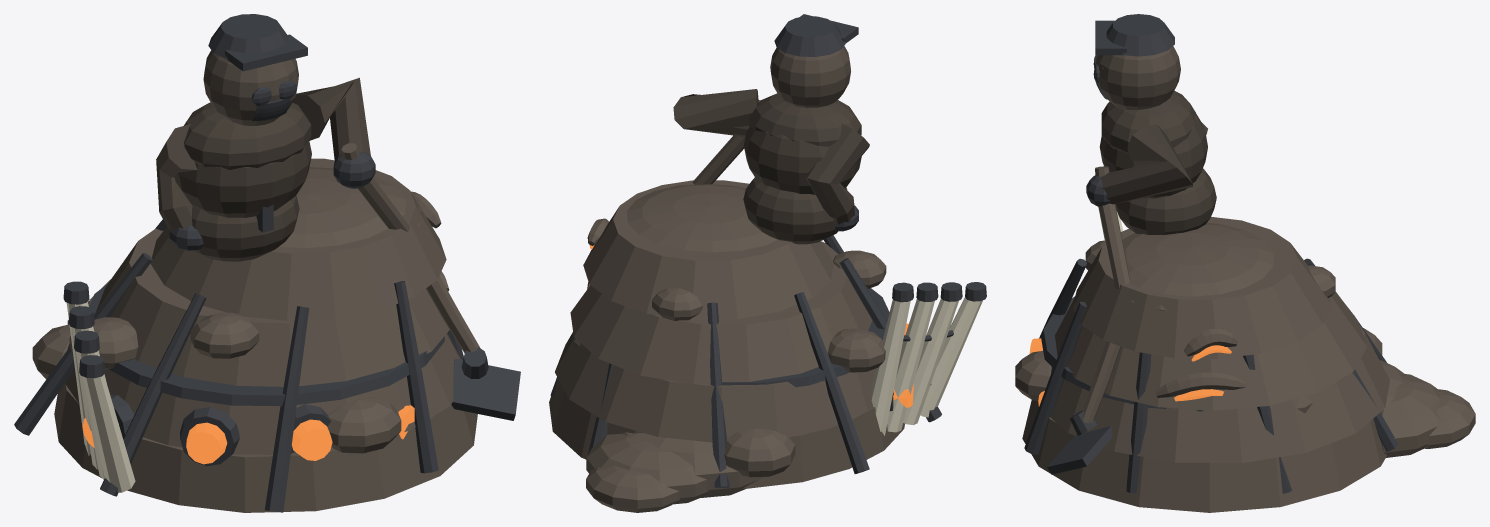
The model's file is collier.glb.
3 renders of one model, left to right at view 1: azimuth 30°, elevation 25°; view 2: azimuth 150°, elevation 25°; view 3: azimuth 270°, elevation 25°, orthographic. The views are drawn at different scales.
Visible parts, largest first — view 1: collier_body, collier_dark, collier_bone, collier_glow; view 2: collier_body, collier_dark, collier_bone; view 3: collier_body, collier_dark, collier_glow.
Boxes of the visible parts, x1=… form: collier_body: x1=32, y1=50, x2=480, y2=512; collier_dark: x1=14, y1=14, x2=520, y2=512; collier_bone: x1=66, y1=301, x2=135, y2=492; collier_glow: x1=82, y1=405, x2=414, y2=464; collier_body: x1=549, y1=46, x2=904, y2=512; collier_dark: x1=550, y1=14, x2=986, y2=487; collier_bone: x1=871, y1=297, x2=982, y2=435; collier_body: x1=1015, y1=46, x2=1475, y2=512; collier_dark: x1=1024, y1=14, x2=1398, y2=493; collier_glow: x1=1029, y1=338, x2=1231, y2=406.
Bounding box in the file's own units: 2.04 × 2.1 × 2.16.
